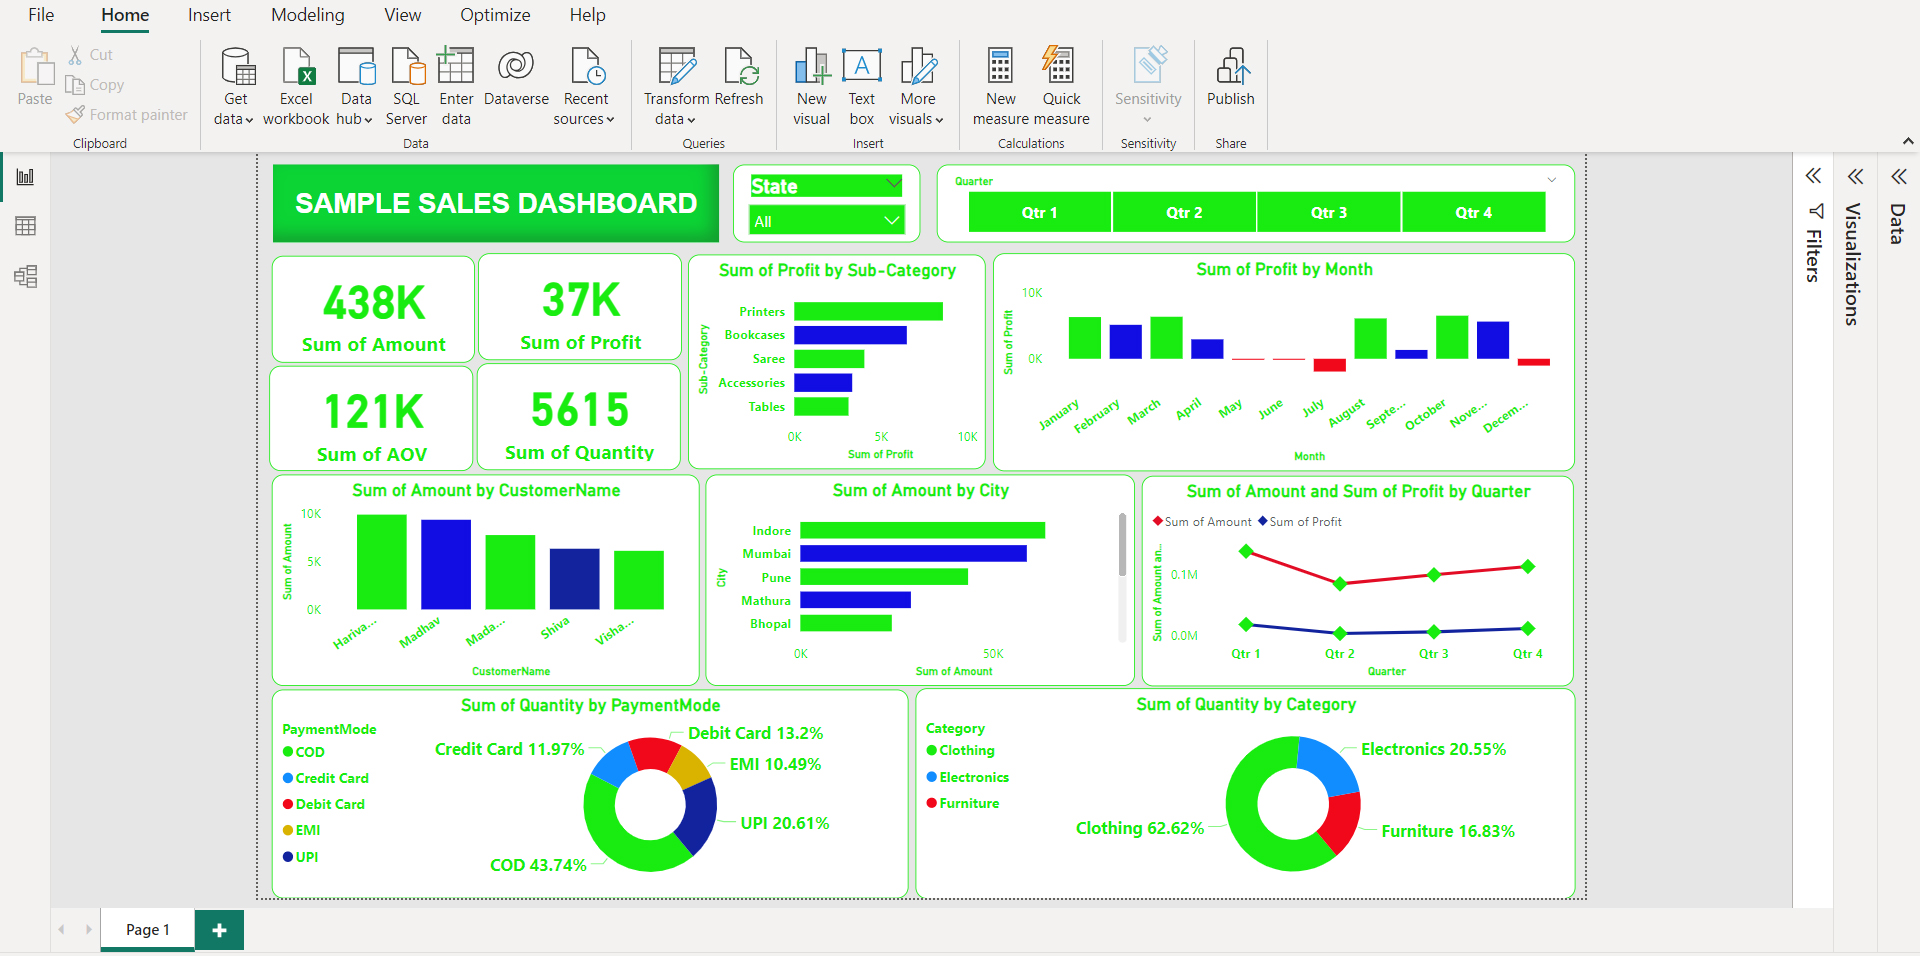

This screenshot's page, from the dashboard's own definition file:
{"tool":"powerbi","page":{"name":"Page 1","canvas":[1280,720],"ordinal":0},"visuals":[{"type":"textbox","box":[13.9,12.5,430.5,75.2],"z":0},{"type":"barChart","fields":{"Y":["Sheet1.Profit"],"Category":["Sheet1.Sub-Category"]},"box":[414.3,98.6,287.1,207.1],"z":1000},{"type":"donutChart","fields":{"Category":["Sheet1.Category"],"Y":["Sheet1.Quantity"]},"box":[634.3,517.1,637.1,202.9],"z":2000},{"type":"donutChart","fields":{"Y":["Sheet1.Quantity"],"Series":["Sheet1.PaymentMode"]},"box":[12.9,518.6,614.3,201.4],"z":3000},{"type":"card","fields":{"Values":["Sheet1.Amount"]},"box":[12.9,100,195.7,102.9],"z":4000},{"type":"card","fields":{"Values":["Sheet1.Profit"]},"box":[212.9,97.1,197.1,102.9],"z":5000},{"type":"card","fields":{"Values":["Sheet1.AOV"]},"box":[11.4,205.7,197.1,101.4],"z":6000},{"type":"card","fields":{"Values":["Sheet1.Quantity"]},"box":[211.4,204.3,197.1,102.9],"z":7000},{"type":"barChart","fields":{"Y":["Sheet1.Amount"],"Category":["Sheet1 (2).City"]},"box":[431.4,311.4,414.3,204.3],"z":8000},{"type":"columnChart","fields":{"Y":["Sheet1.Profit"],"Category":["Sheet1 (2).Order Date.Variation.Date Hierarchy.Month"]},"box":[708.6,97.1,561.4,210],"z":9000},{"type":"slicer","fields":{"Values":["Sheet1 (2).Order Date.Variation.Date Hierarchy.Quarter"]},"box":[654.8,12.5,615.8,75.2],"z":10000},{"type":"slicer","fields":{"Values":["Sheet1 (2).State"]},"box":[458.3,12.5,181.1,75.2],"z":11000},{"type":"lineStackedColumnComboChart","fields":{"Category":["Sheet1 (2).CustomerName"],"Y":["Sheet1.Amount"]},"box":[12.9,311.4,412.9,204.3],"z":12000},{"type":"lineChart","fields":{"Category":["Sheet1 (2).Order Date.Variation.Date Hierarchy.Quarter"],"Y":["Sheet1.Amount","Sheet1.Profit"]},"box":[852.9,312.9,417.1,202.9],"z":13000}]}

Visuals, with their boxes on the page's 1280x720 design canvas (x1, y1, x2, y2). These are canvas units, not pixel positions in the 1920x956 screenshot, which may show the page scaled, cropped or inside an application window:
textbox: (14,12,444,88)
barChart - Sheet1.Profit x Sheet1.Sub-Category: (414,99,701,306)
donutChart - Sheet1.Category x Sheet1.Quantity: (634,517,1271,720)
donutChart - Sheet1.Quantity x Sheet1.PaymentMode: (13,519,627,720)
card - Sheet1.Amount: (13,100,209,203)
card - Sheet1.Profit: (213,97,410,200)
card - Sheet1.AOV: (11,206,208,307)
card - Sheet1.Quantity: (211,204,408,307)
barChart - Sheet1.Amount x Sheet1 (2).City: (431,311,846,516)
columnChart - Sheet1.Profit x Sheet1 (2).Order Date.Variation.Date Hierarchy.Month: (709,97,1270,307)
slicer - Sheet1 (2).Order Date.Variation.Date Hierarchy.Quarter: (655,12,1271,88)
slicer - Sheet1 (2).State: (458,12,639,88)
lineStackedColumnComboChart - Sheet1 (2).CustomerName x Sheet1.Amount: (13,311,426,516)
lineChart - Sheet1 (2).Order Date.Variation.Date Hierarchy.Quarter x Sheet1.Amount: (853,313,1270,516)
